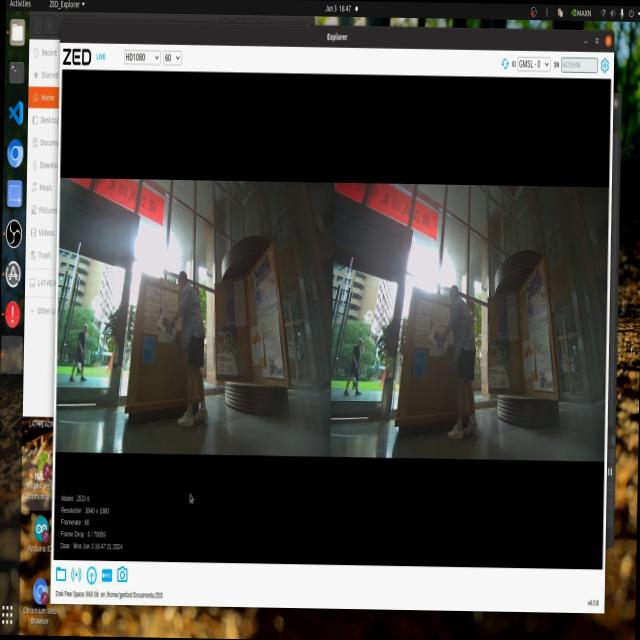blue: (149, 312, 182, 348), (428, 326, 448, 356)
